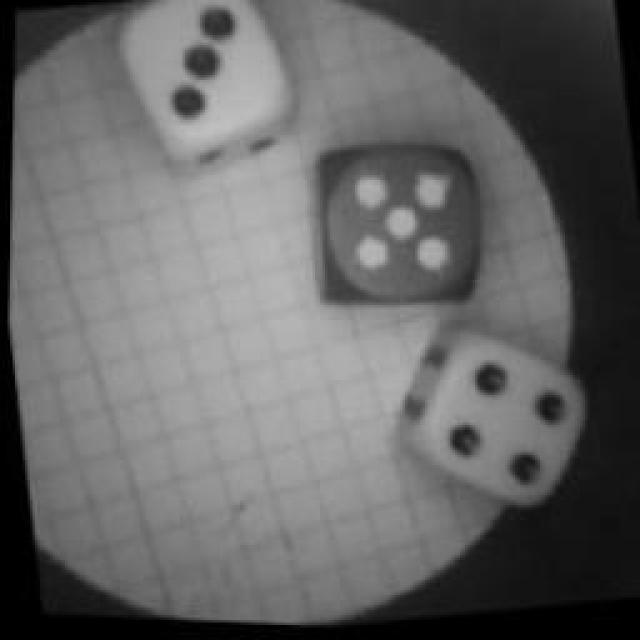dice_3: (103, 0, 315, 198)
dice_4: (381, 306, 614, 534)
dice_5: (282, 119, 502, 341)
